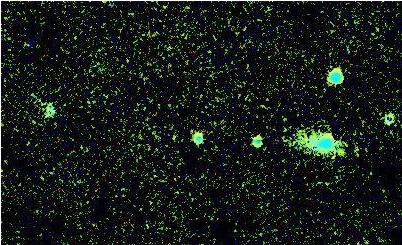star: (327, 139, 357, 169)
